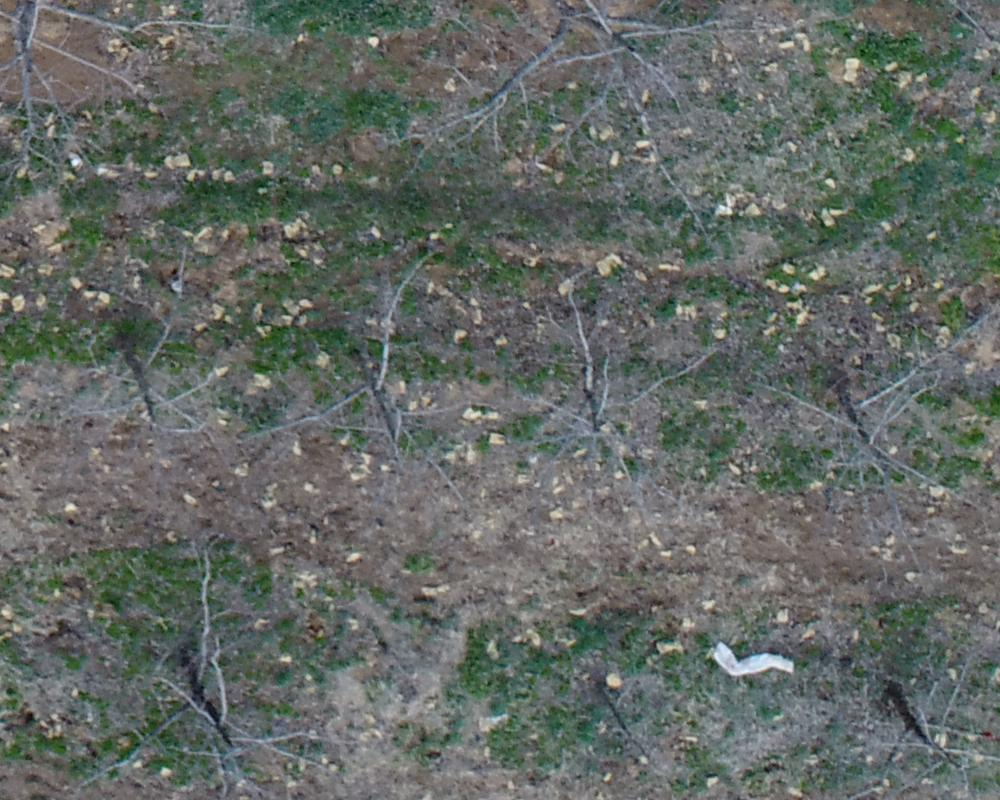apple: (396, 10, 765, 212), (65, 541, 333, 790), (252, 247, 477, 492), (766, 322, 990, 552), (489, 290, 711, 507), (49, 244, 234, 485), (10, 10, 235, 181), (835, 643, 990, 790)
